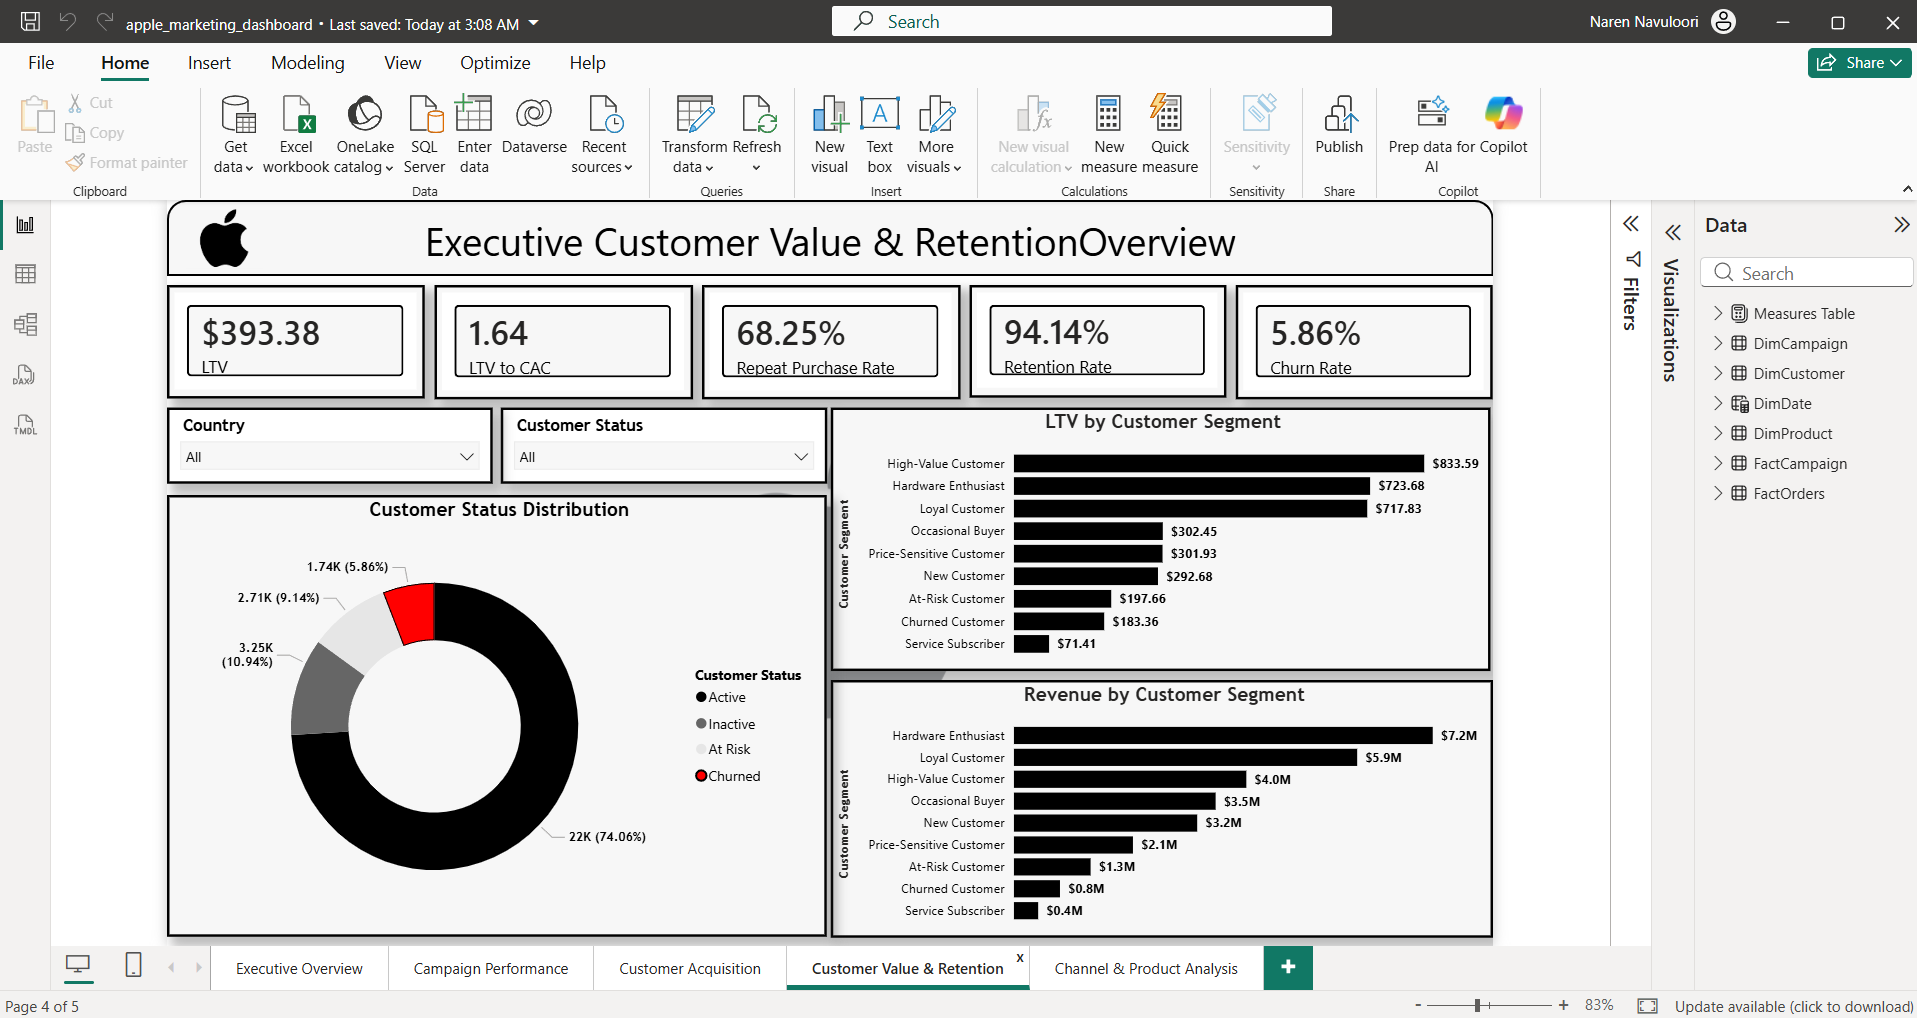

The page's visual inventory and layout, read from the dashboard file:
{"tool":"powerbi","page":{"name":"Customer Value & Retention","canvas":[1280,720],"ordinal":3},"visuals":[{"type":"shape","box":[0,0,1280.3,73.4],"z":0},{"type":"image","box":[18.3,6.1,74.6,61.1],"z":1000},{"type":"cardVisual","fields":{"Data":["Measures Table.LTV"]},"box":[0,82,249,109.8],"z":2000},{"type":"cardVisual","fields":{"Data":["Measures Table.LTV to CAC"]},"box":[258,81.9,249.5,110.1],"z":3000},{"type":"cardVisual","fields":{"Data":["Measures Table.Repeat Purchase Rate"]},"box":[516.4,81.9,249.5,110.1],"z":4000},{"type":"cardVisual","fields":{"Data":["Measures Table.Retention Rate"]},"box":[774.9,81.9,248.2,108.8],"z":5000},{"type":"cardVisual","fields":{"Data":["Measures Table.Churn Rate"]},"box":[1031.8,81.9,248.2,110.1],"z":6000},{"type":"slicer","fields":{"Values":["DimCustomer.customer_status"]},"box":[322.1,200.3,314.9,73.6],"z":7000},{"type":"slicer","fields":{"Values":["DimCustomer.country"]},"box":[0,200.5,314.3,73.4],"z":8000},{"type":"clusteredBarChart","title":"LTV by Customer Segment","fields":{"Category":["DimCustomer.customer_segment"],"Y":["Measures Table.LTV"]},"box":[640.6,200.3,637,254.6],"z":9000},{"type":"clusteredBarChart","title":"Revenue by Customer Segment","fields":{"Category":["DimCustomer.customer_segment"],"Y":["Measures Table.Total Revenue"]},"box":[640.6,463.3,639.4,248.5],"z":10000},{"type":"donutChart","title":"Customer Status Distribution","fields":{"Category":["DimCustomer.customer_status"],"Y":["Count(DimCustomer.customer_id)"]},"box":[0,284.9,637.1,426.8],"z":11000}]}

Visuals, with their boxes on the page's 1280x720 design canvas (x1, y1, x2, y2). These are canvas units, not pixel positions in the 1917x1018 screenshot, which may show the page scaled, cropped or inside an application window:
shape: crop(0, 0, 1280, 73)
image: crop(18, 6, 93, 67)
cardVisual - Measures Table.LTV: crop(0, 82, 249, 192)
cardVisual - Measures Table.LTV to CAC: crop(258, 82, 508, 192)
cardVisual - Measures Table.Repeat Purchase Rate: crop(516, 82, 766, 192)
cardVisual - Measures Table.Retention Rate: crop(775, 82, 1023, 191)
cardVisual - Measures Table.Churn Rate: crop(1032, 82, 1280, 192)
slicer - DimCustomer.customer_status: crop(322, 200, 637, 274)
slicer - DimCustomer.country: crop(0, 200, 314, 274)
"LTV by Customer Segment" clusteredBarChart: crop(641, 200, 1278, 455)
"Revenue by Customer Segment" clusteredBarChart: crop(641, 463, 1280, 712)
"Customer Status Distribution" donutChart: crop(0, 285, 637, 712)
